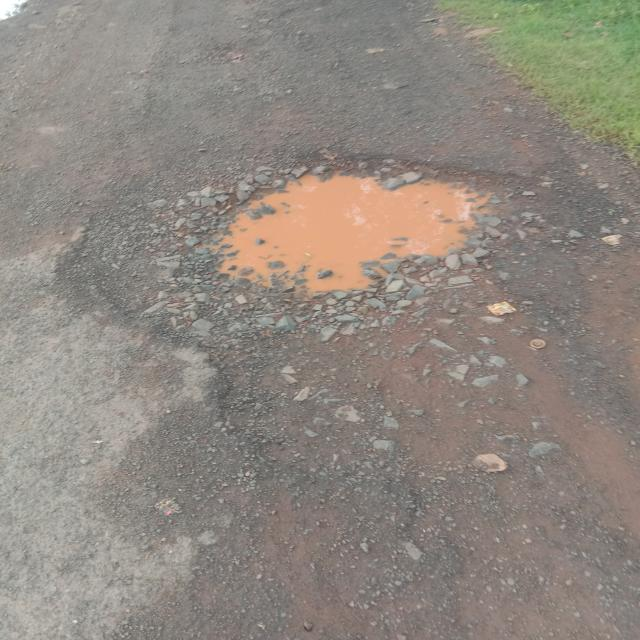potholes: (199, 152, 502, 308), (0, 0, 39, 24)
